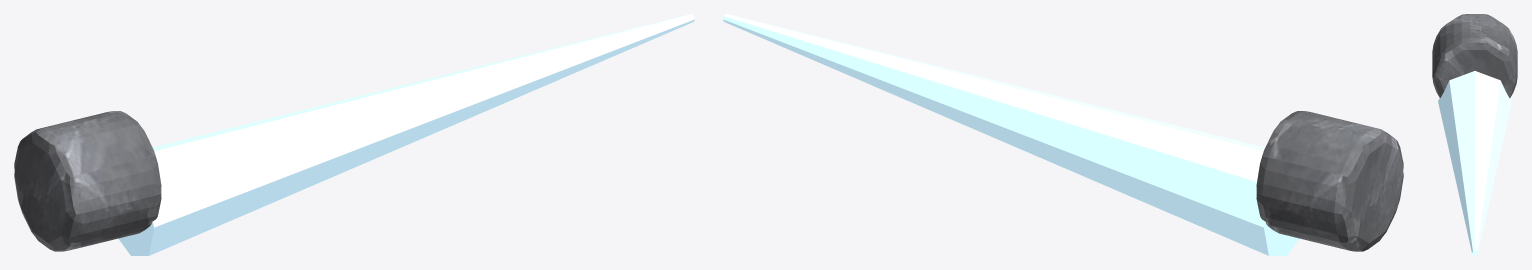
The model's file is needle.glb.
The picture shows the model from 3 angles, left to right: view 1: azimuth 30°, elevation 25°; view 2: azimuth 150°, elevation 25°; view 3: azimuth 270°, elevation 25°; orthographic projection. The views are drawn at different scales.
Visible parts, largest first — view 1: model; view 2: model; view 3: model.
Part boxes in pixels (x1,y1,x2,y2): model: (14, 14, 694, 255); model: (723, 14, 1403, 255); model: (1432, 14, 1517, 255).
Size of the model in its own units: 0.3446 by 0.0715 by 0.0578.
2 materials, 1 textured.
